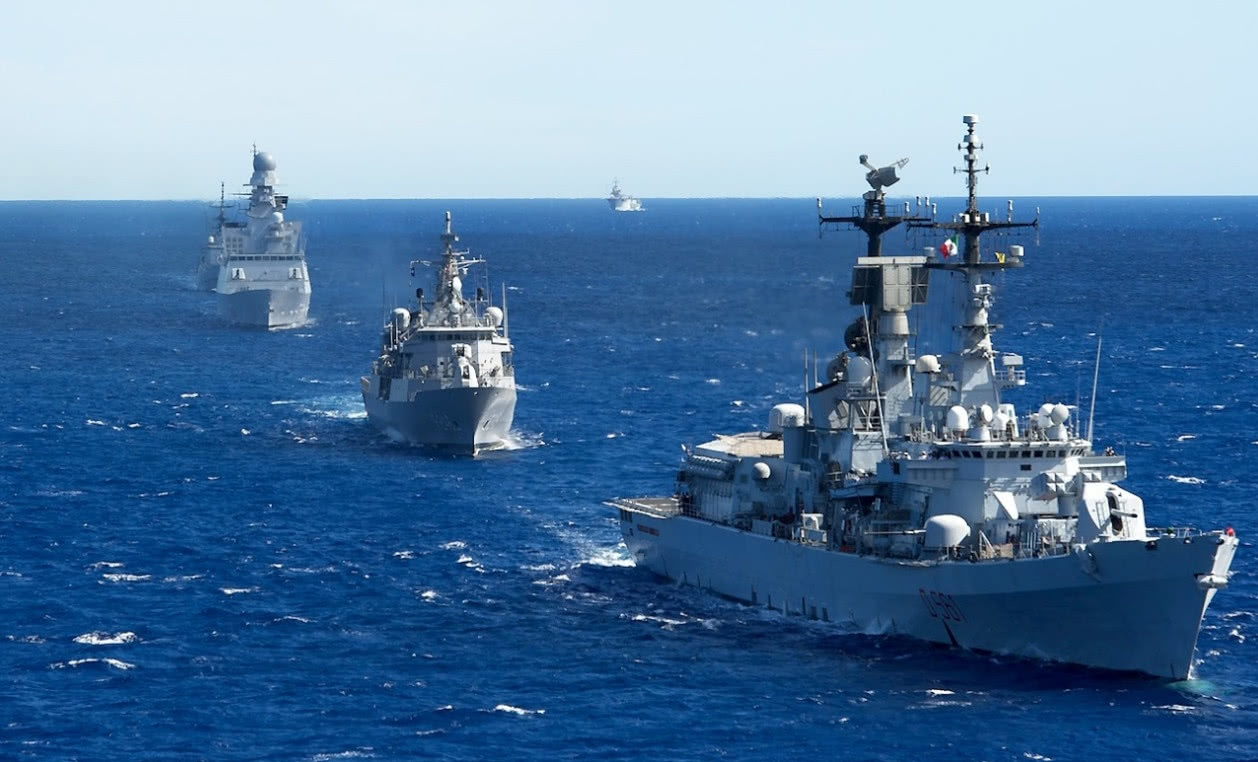warship: (602, 109, 1223, 681), (339, 208, 548, 457), (215, 151, 312, 337), (602, 177, 651, 216)
